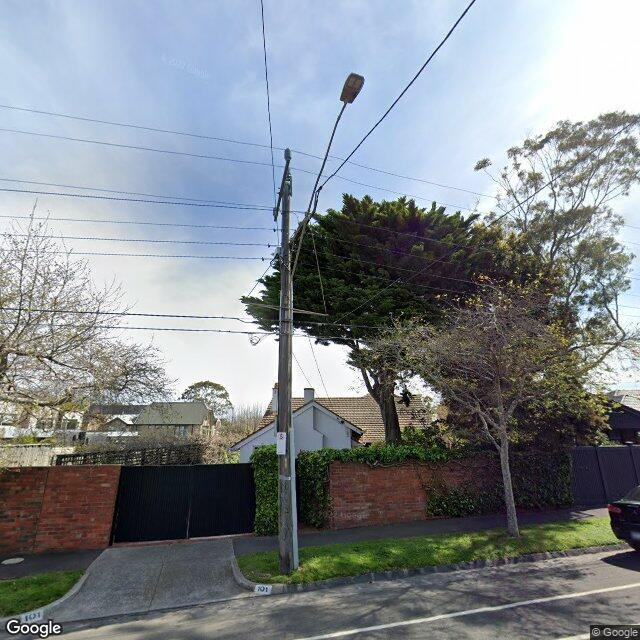HV-transmission: (273, 148, 290, 216)
crossarm: (270, 215, 311, 267), (274, 160, 290, 222)
streetlight: (290, 73, 366, 283)
timber-pole: (278, 182, 299, 573)
